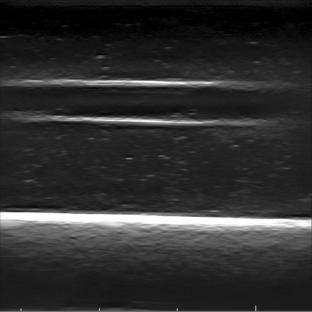vessel: (4, 78, 294, 128)
